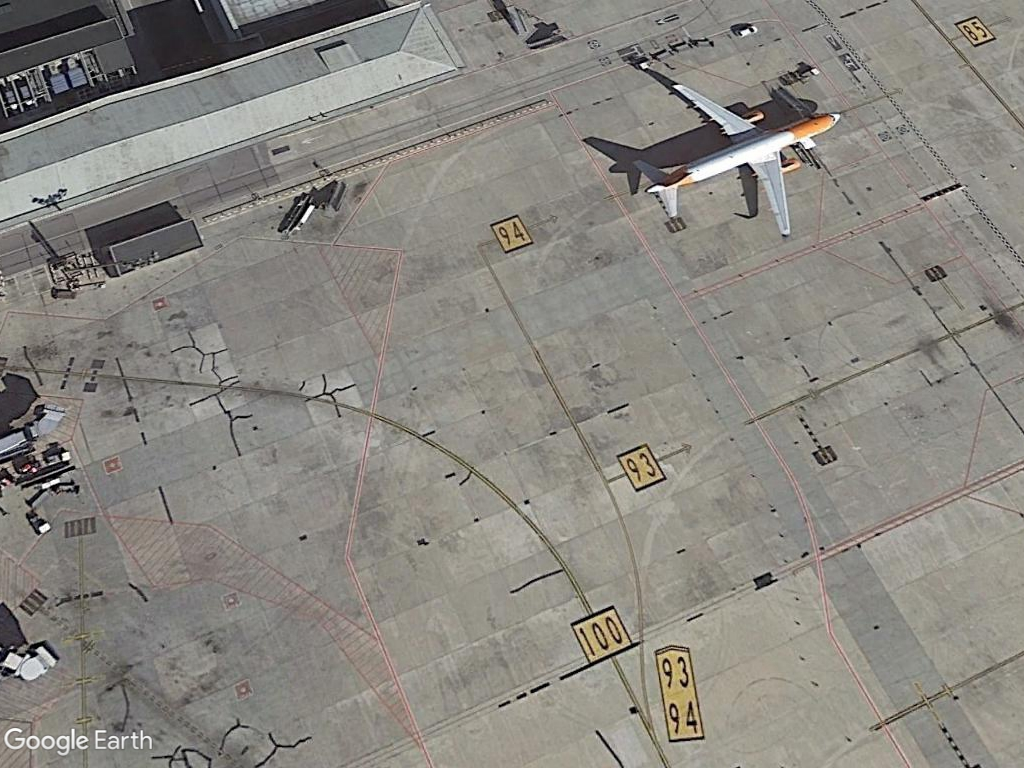airliner: (629, 83, 845, 244)
